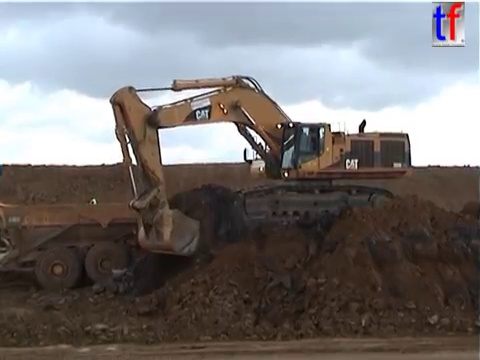excavator: (105, 72, 415, 259)
truck: (1, 199, 159, 292)
worker: (85, 193, 99, 218)
